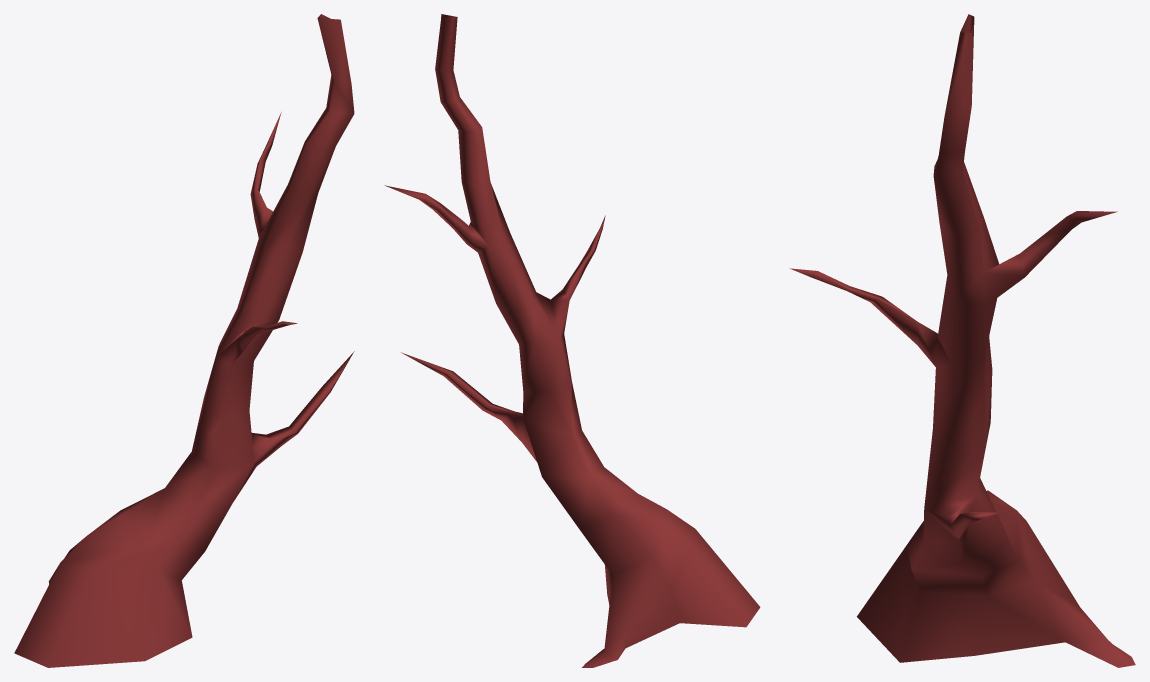
Rendered from Trees_1_LP_BAKE.FBX.
3 views of the same model, side by side, from view 1: azimuth 30°, elevation 25°; view 2: azimuth 150°, elevation 25°; view 3: azimuth 270°, elevation 25° (orthographic). The views are drawn at different scales.
Parts seen in each view (by area): view 1: Trees_1_LP; view 2: Trees_1_LP; view 3: Trees_1_LP.
Part boxes in pixels (x1=…): Trees_1_LP: x1=14, y1=14, x2=354, y2=667; Trees_1_LP: x1=384, y1=14, x2=760, y2=667; Trees_1_LP: x1=789, y1=14, x2=1135, y2=667.
Size of the model in its own units: 91.47 by 146 by 59.11.
